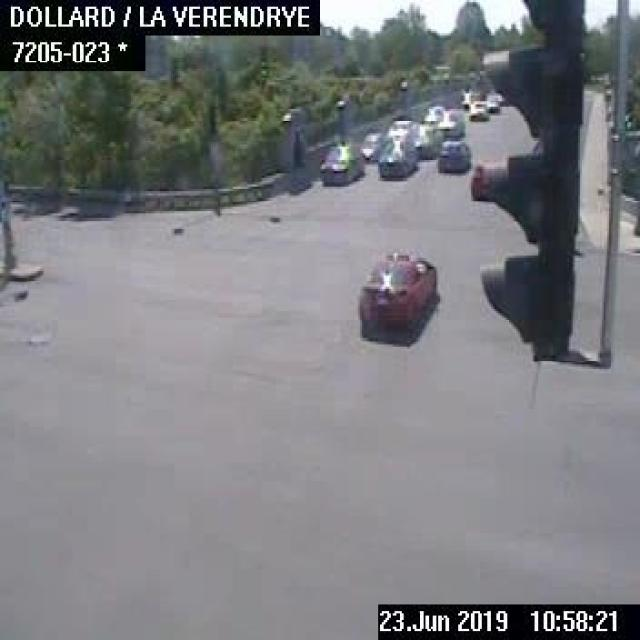vehicle: (356, 244, 440, 334), (316, 139, 364, 187), (375, 133, 418, 177), (438, 139, 472, 175), (431, 108, 466, 138), (408, 123, 437, 159), (384, 116, 416, 136), (469, 97, 488, 121)
